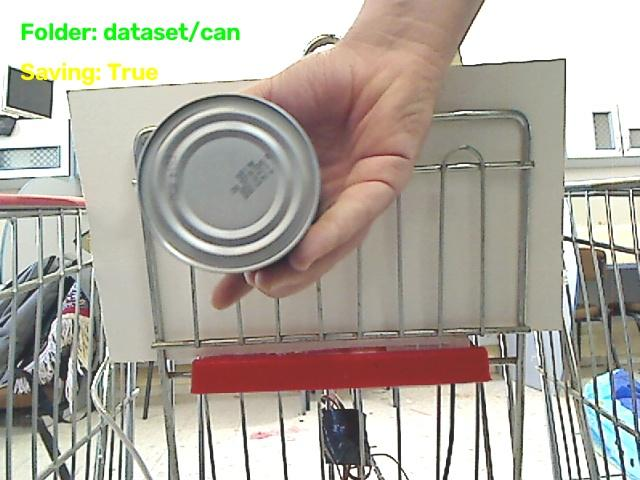can: (137, 94, 319, 272)
